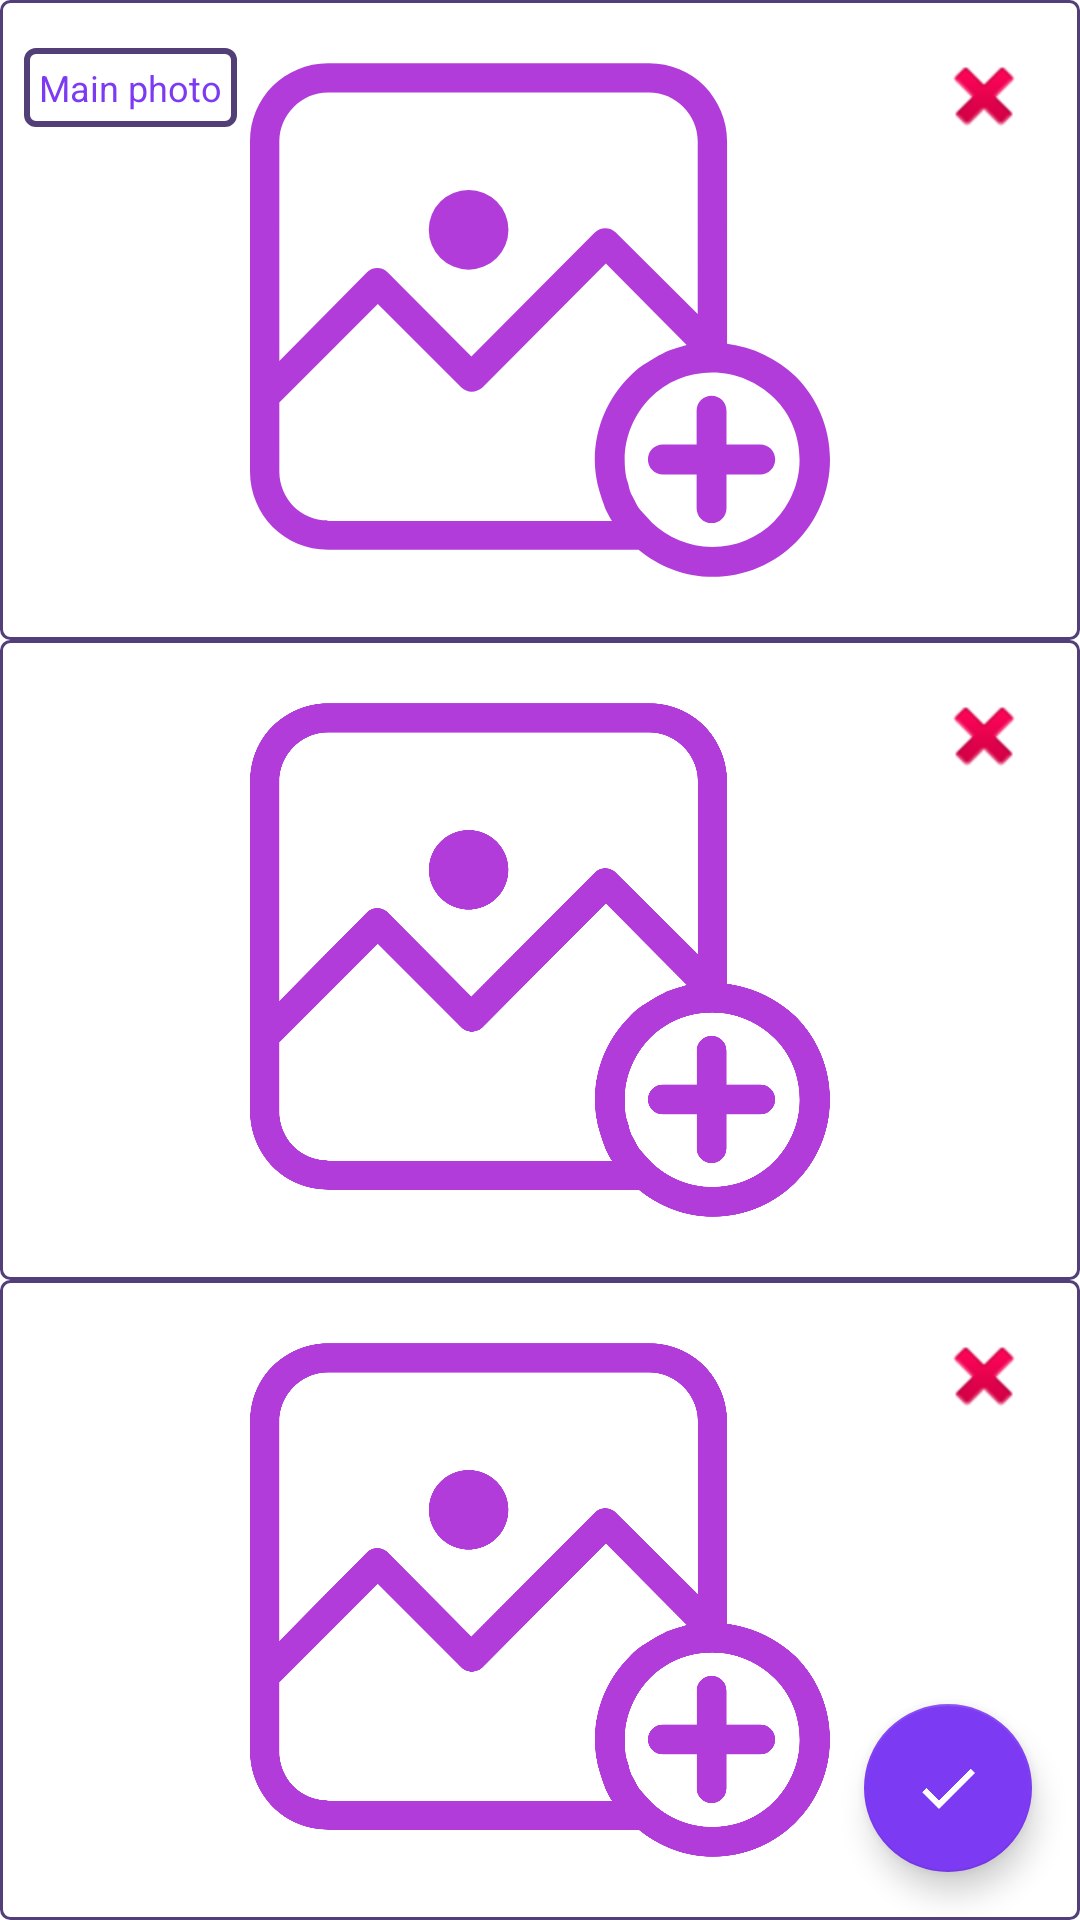

Screen size 1080w x 1920h. Icon name, then its box in pixels as (x1, y1, x2, y2):
delete: (953, 67, 1015, 126), (953, 707, 1015, 766), (953, 1347, 1015, 1406)
